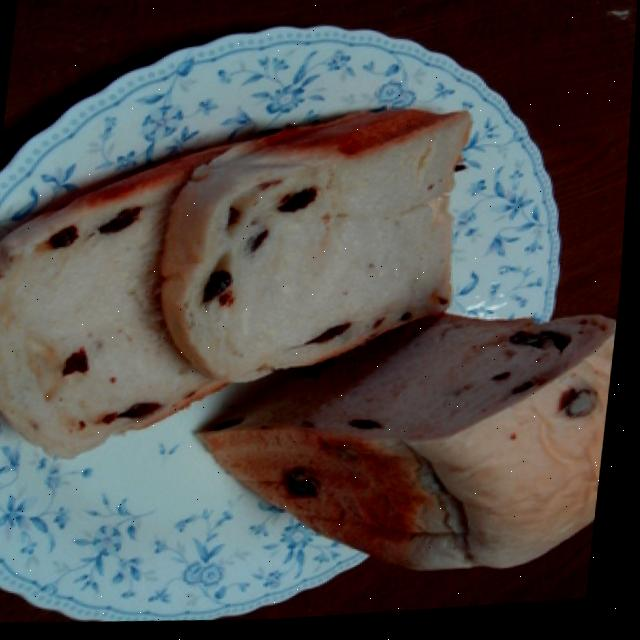面包点心: (0, 105, 634, 637)
